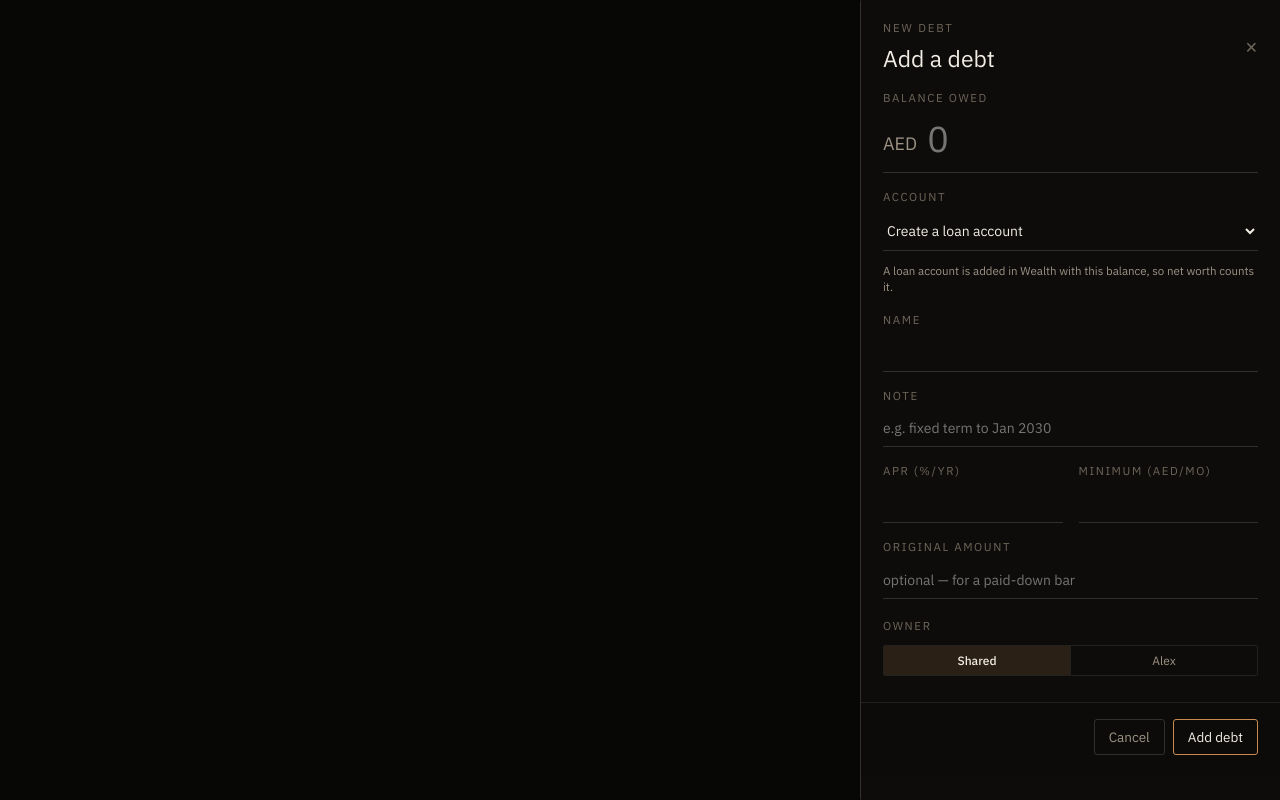
Test case: DebtEditor: the rate and the minimum › needs both, marks each field, and saves nothing until they are entered
Type "40000" into the number field named "Balance owed".
click(1093, 138); type("40000")  # box [927, 115, 1258, 162]
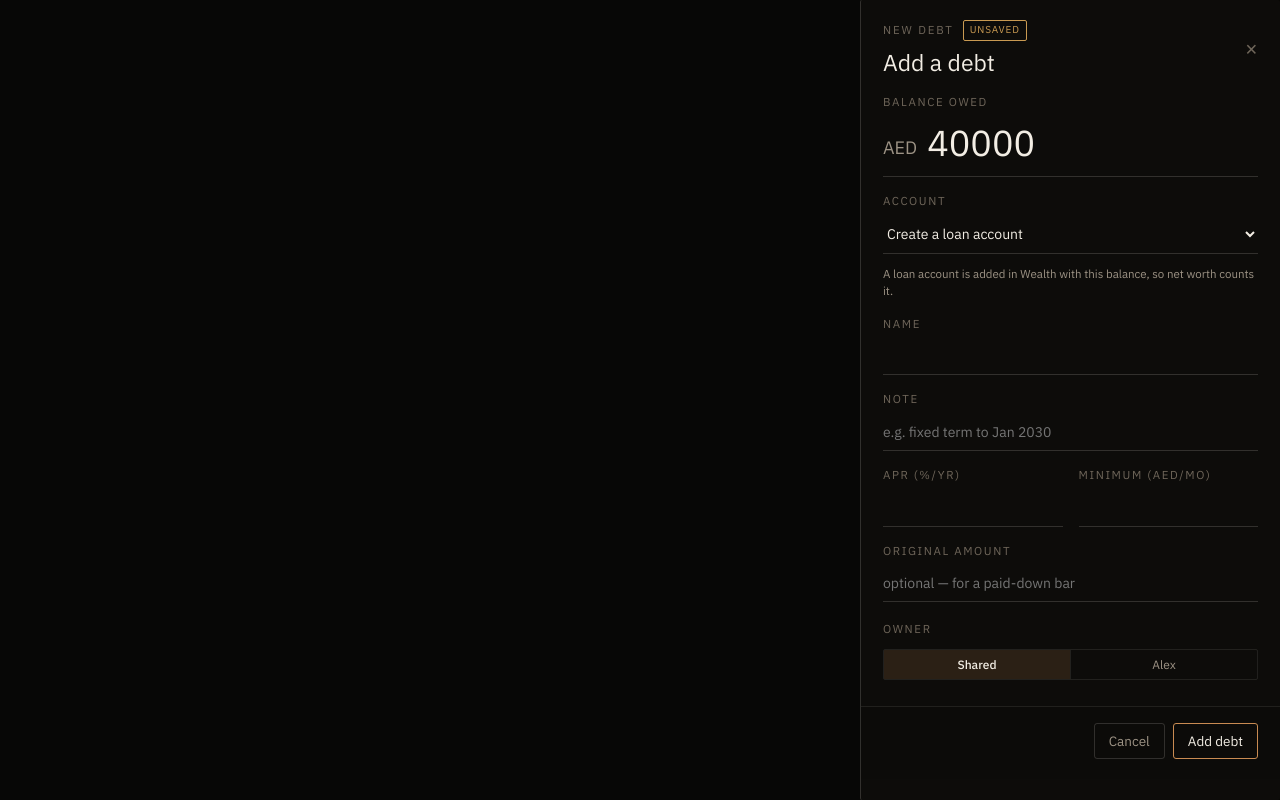
Type "Car loan" into the field labelled "Name".
click(1070, 357); type("Car loan")  # box [883, 338, 1258, 376]
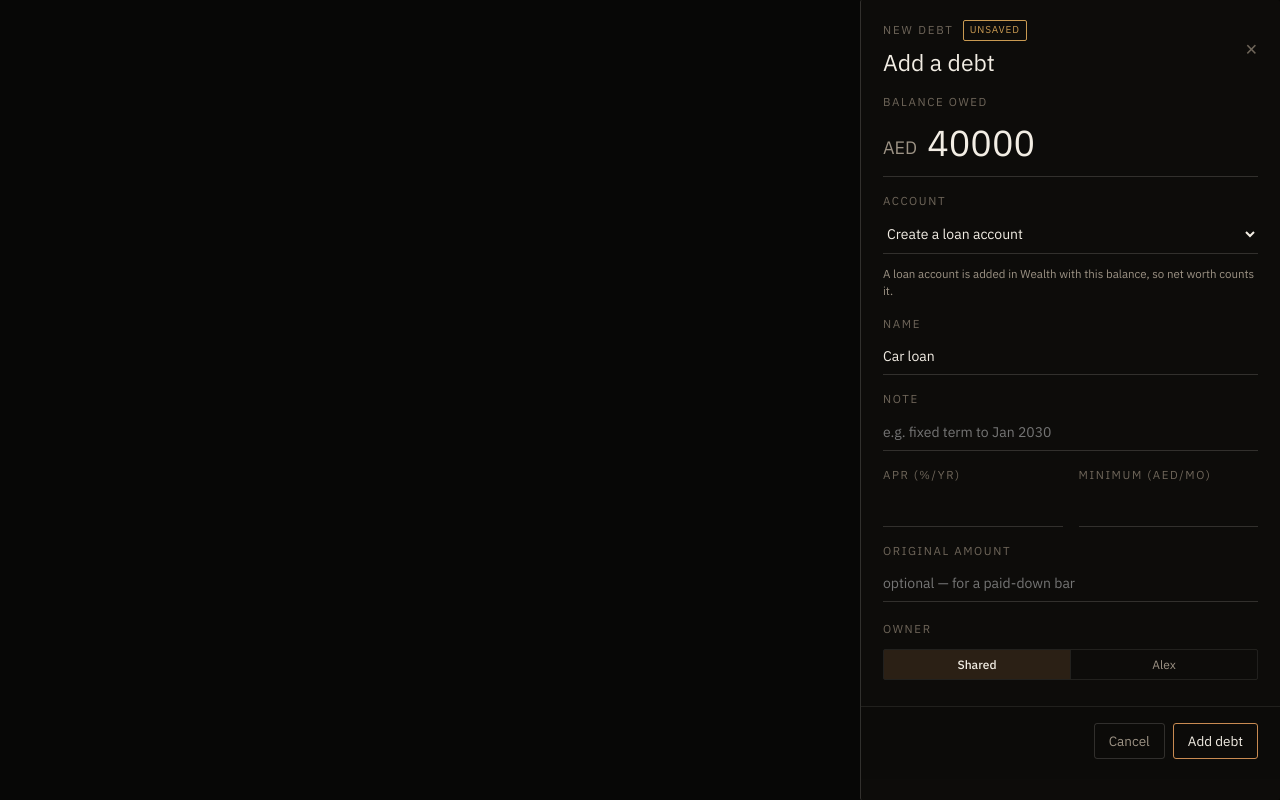
Click the button "Add debt".
click(1215, 741)  # box [1173, 723, 1258, 759]
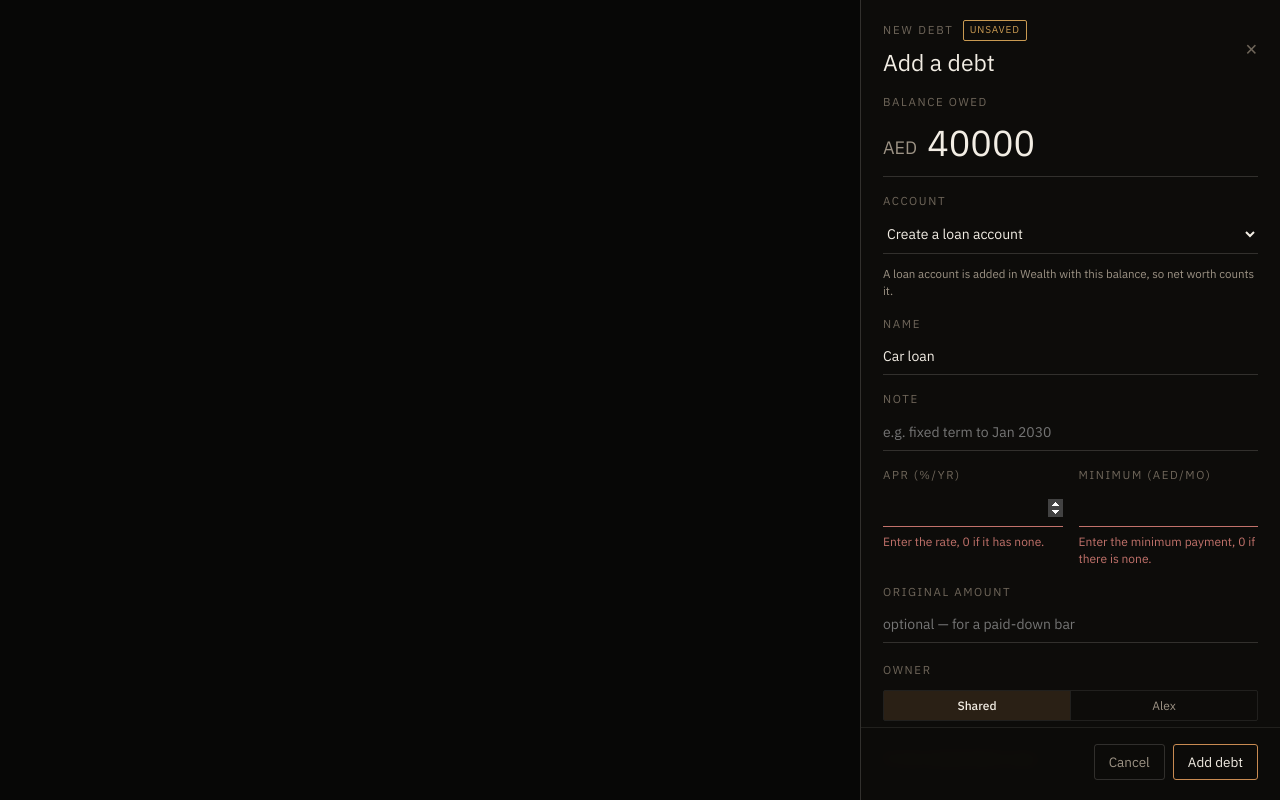
Now the text "Enter the rate, 0 if it has none." is shown, box [883, 533, 1062, 550]
Now the text "Enter the minimum payment, 0 if there is none." is shown, box [1078, 533, 1258, 568]
